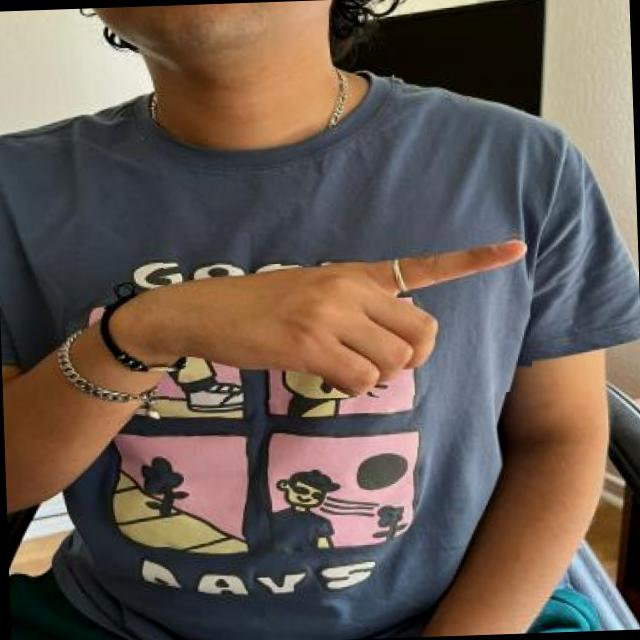S: (128, 226, 532, 404)
